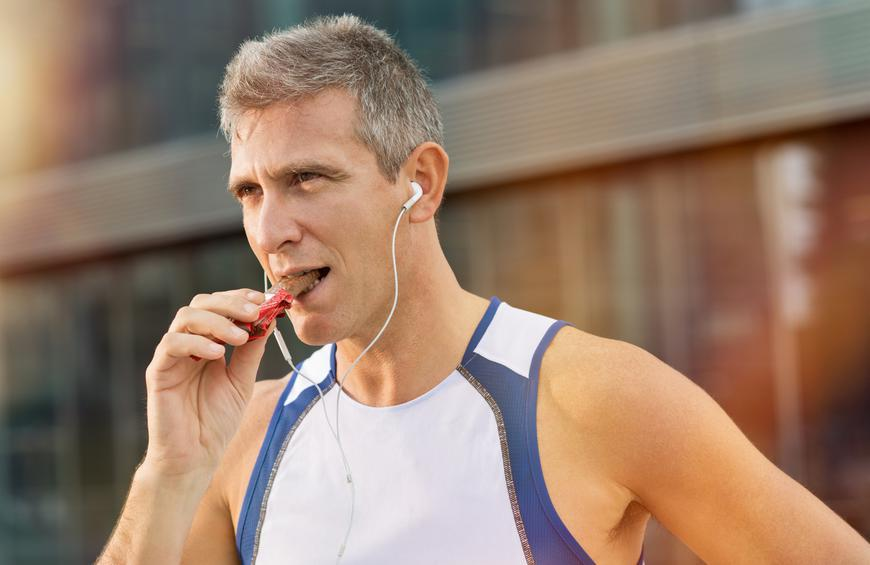eating: (154, 22, 484, 403)
